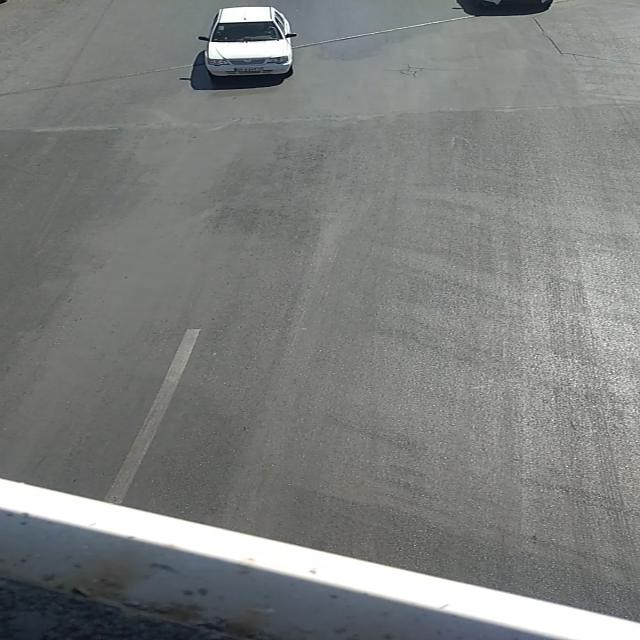car: (191, 8, 297, 76)
